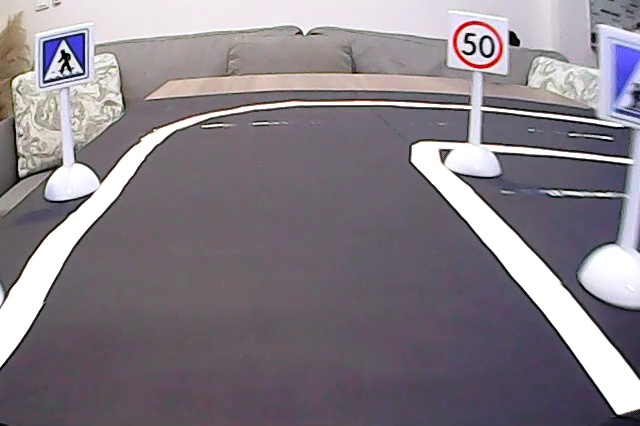pedestrian crossing: (39, 33, 94, 85)
speed limit 50: (452, 16, 507, 73)
